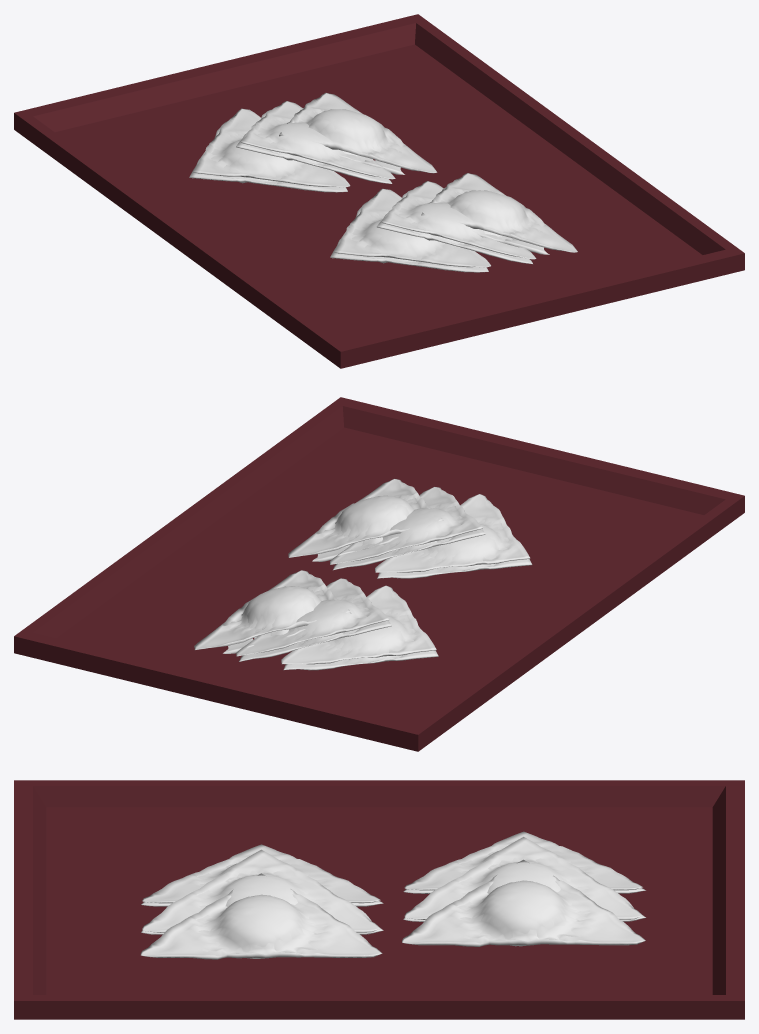
The model's file is TS_Yatsuhashi (1).fbx.
3 views of the same model, one above another, from view 1: azimuth 30°, elevation 25°; view 2: azimuth 150°, elevation 25°; view 3: azimuth 270°, elevation 25° (orthographic). The views are drawn at different scales.
Visible parts, largest first — view 1: 立方体, 平面.004, 平面.001, 平面.006, 平面.003, 平面.005, 平面.002; view 2: 立方体, 平面.004, 平面.001, 平面.003, 平面.006, 平面.005, 平面.002; view 3: 立方体, 平面.006, 平面.003, 平面.002, 平面.005, 平面.001, 平面.004.
Boxes of the visible parts, box(x1,y1,x2,y2) form: 立方体: box(14, 14, 744, 368); 平面.004: box(189, 108, 350, 192); 平面.001: box(330, 188, 490, 272); 平面.006: box(279, 93, 437, 174); 平面.003: box(421, 173, 577, 254); 平面.005: box(236, 101, 395, 183); 平面.002: box(377, 181, 536, 264); 立方体: box(14, 397, 744, 751); 平面.004: box(281, 585, 438, 670); 平面.001: box(375, 494, 532, 578); 平面.003: box(288, 478, 443, 561); 平面.006: box(194, 570, 351, 653); 平面.005: box(236, 578, 391, 661); 平面.002: box(330, 486, 485, 570); 立方体: box(14, 780, 744, 1019); 平面.006: box(402, 859, 645, 946); 平面.003: box(140, 873, 382, 959); 平面.002: box(141, 849, 383, 934); 平面.005: box(403, 837, 645, 921); 平面.001: box(141, 844, 383, 906); 平面.004: box(403, 831, 645, 893).
Bounding box in the file's own units: 200 × 17.89 × 280.
